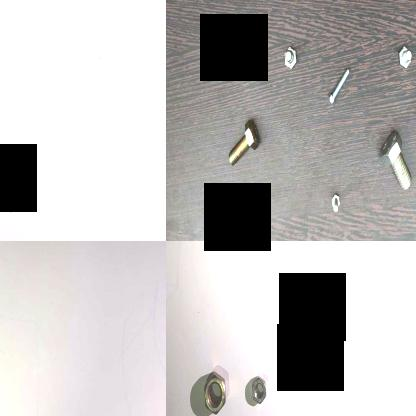Bolts: (375, 127, 415, 196), (226, 118, 262, 172), (328, 63, 354, 108), (394, 40, 416, 76), (282, 46, 300, 72), (331, 192, 343, 216)
NUTS: (203, 369, 227, 416), (8, 178, 25, 219), (248, 375, 268, 409)
